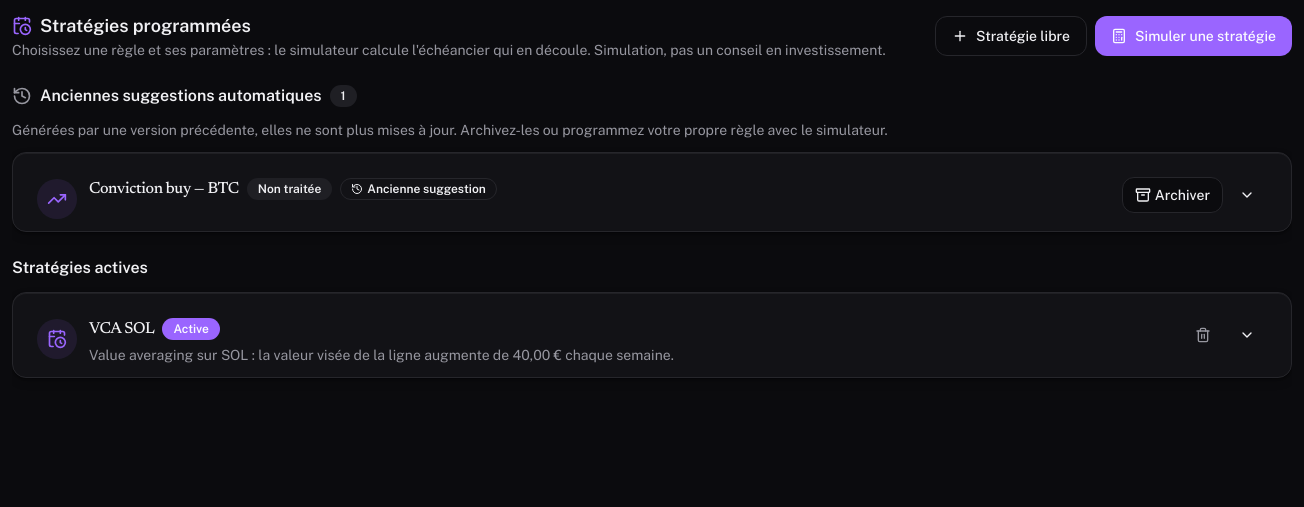
Scenario: Stratégies programmées › décrit la règle programmée et laisse saisir un montant calculé à l’échéance
Check: the heading "VCA SOL" is shown, box [89,317,154,341]
Check: the text "Value averaging sur SOL : la valeur visée de la ligne augmente de 40,00 € chaque semaine." is shown, box [89,347,674,363]
Click the button named "Déplier le détail de VCA SOL" at (1247, 335), box [1227,317,1267,353]
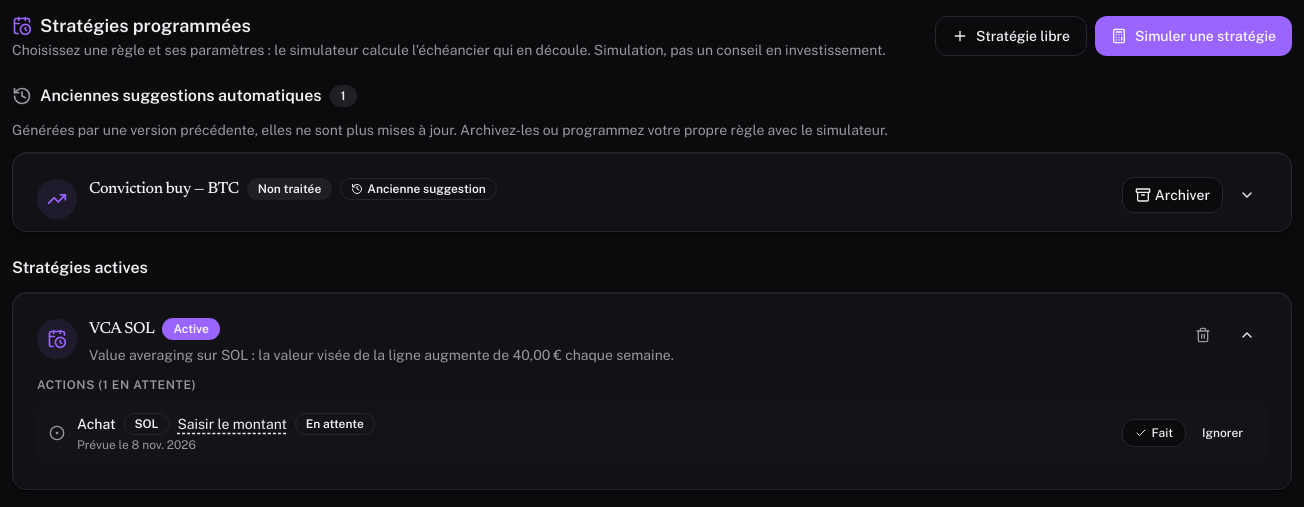
Check: the text "Achat" is shown, box [77,414,116,434]
Check: the text "Prévue le 8 nov. 2026" is shown, box [77,438,196,452]
Check: the button "Saisir le montant" is shown, box [178,414,287,434]
